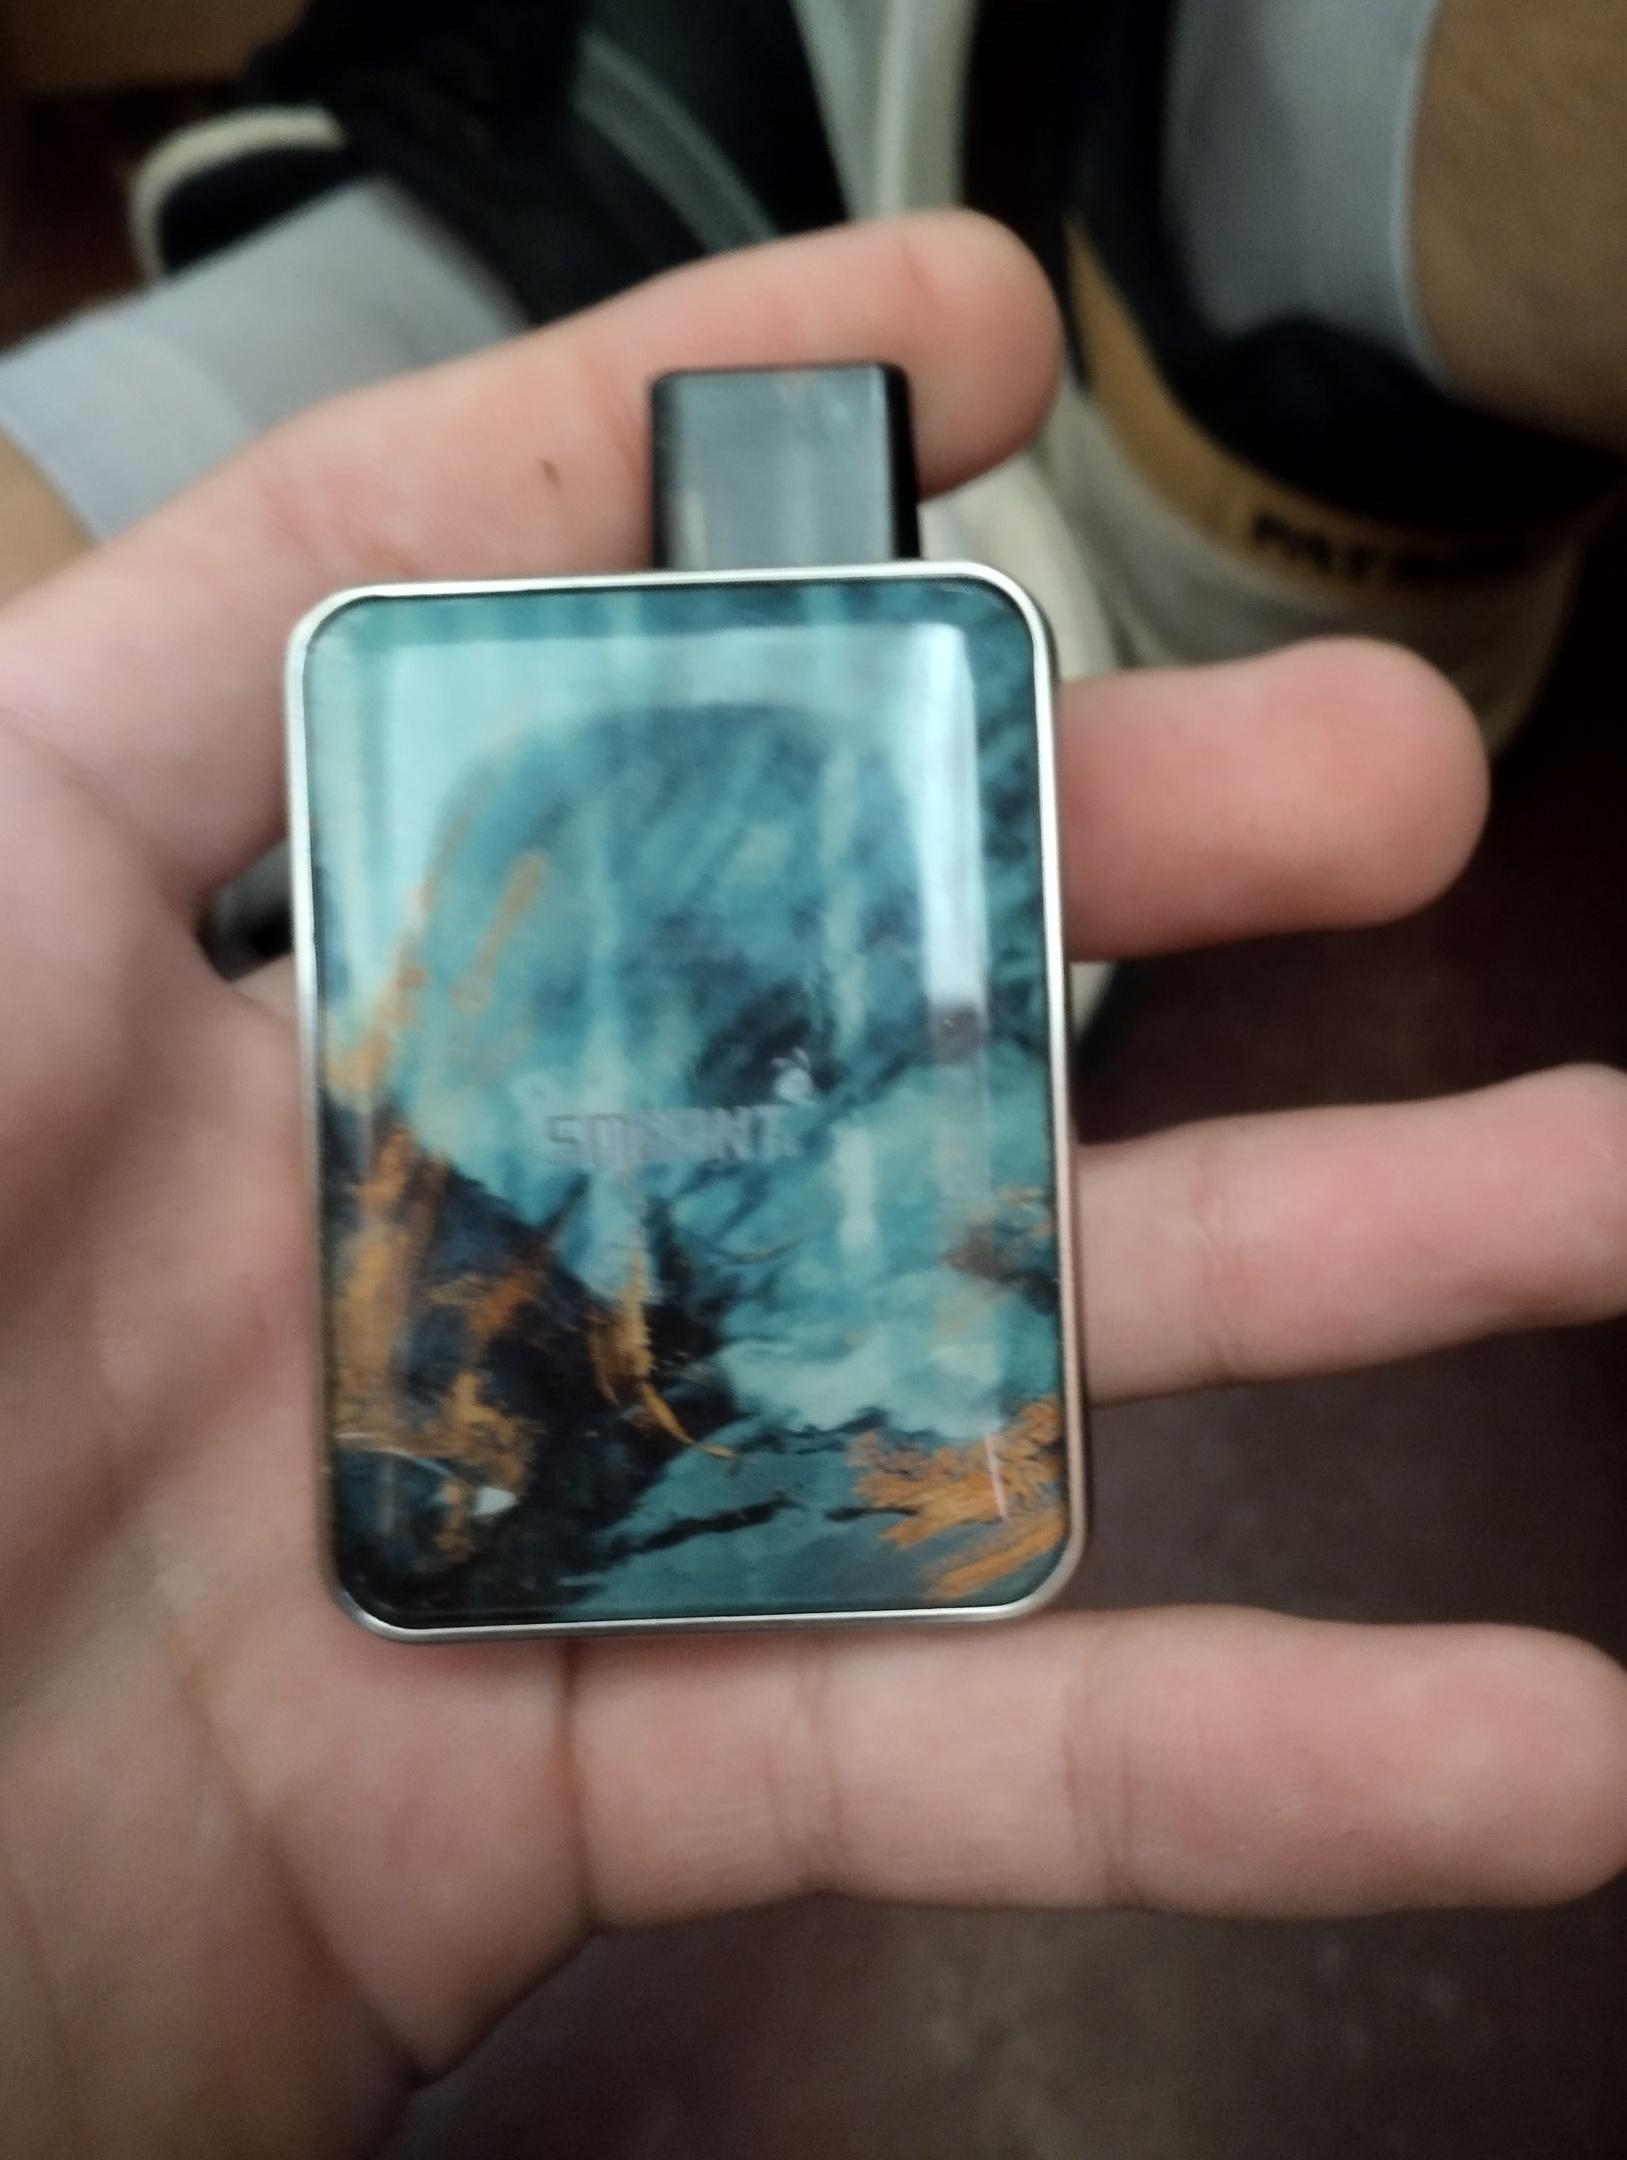Vape: (289, 366, 1085, 1641)
